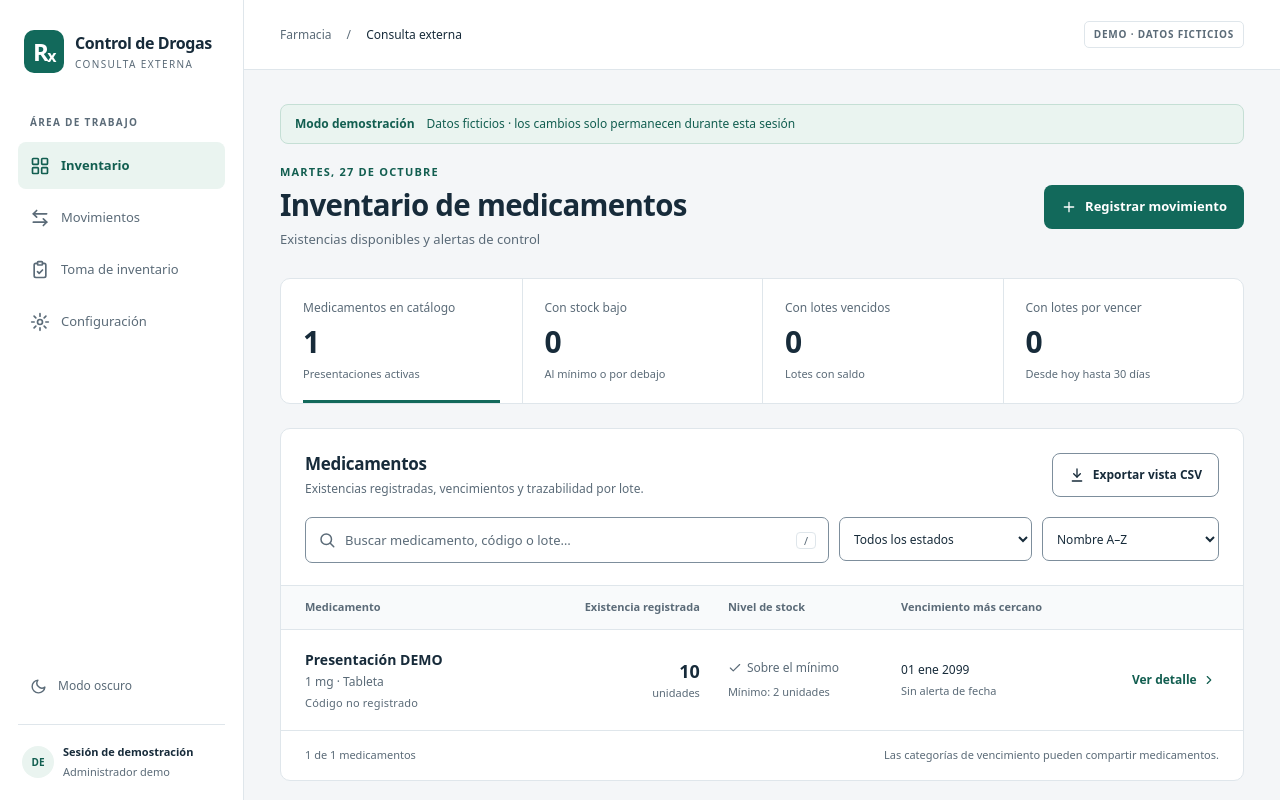
Test: recuperación de un movimiento en la aplicación › asocia existencias insuficientes a cantidad, conserva el formulario y permite corregirlo
The width and height of the screenshot is (1280, 800).
Click the button "Registrar movimiento".
click(1144, 207)  # box top-left (1044, 185), bottom-right (1244, 229)
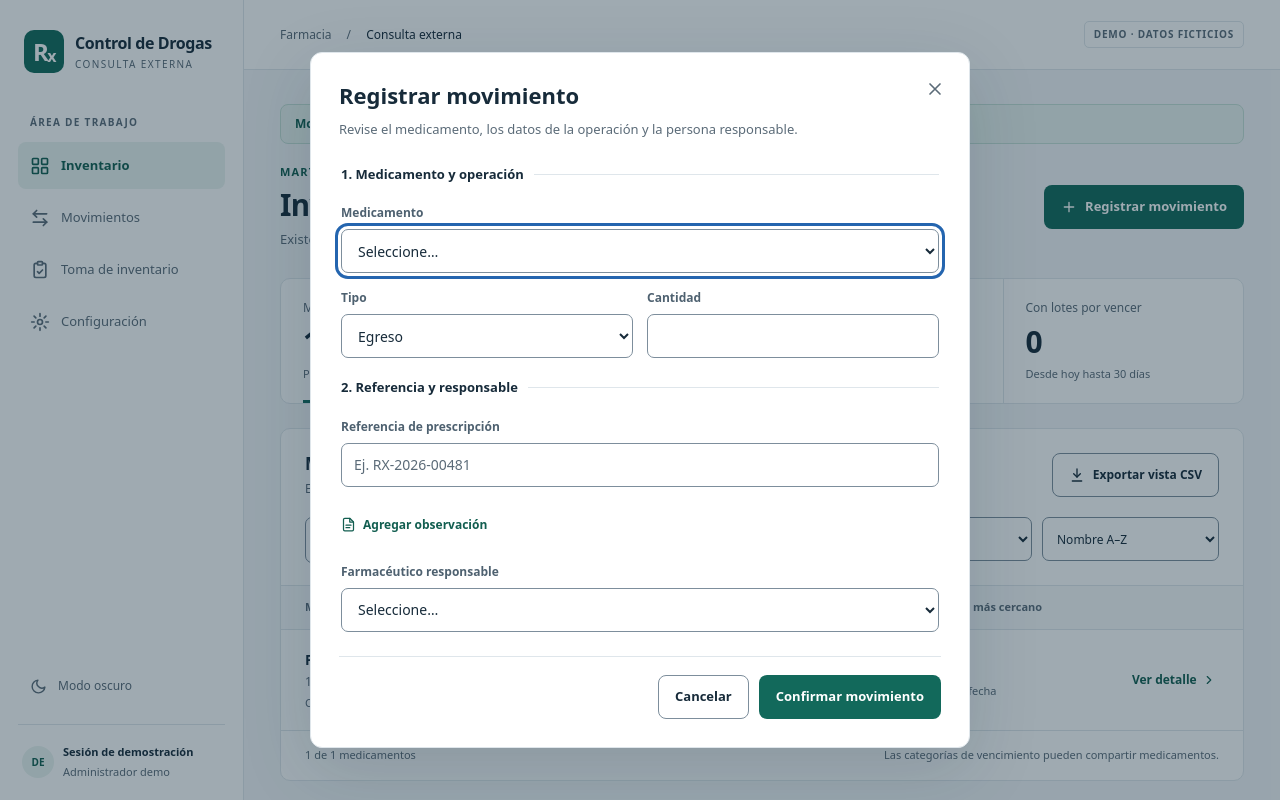
Select "Presentación DEMO 1 mg — 10 unidades" in the dropdown labelled "Medicamento" at (640, 251), box top-left (341, 229), bottom-right (939, 273)
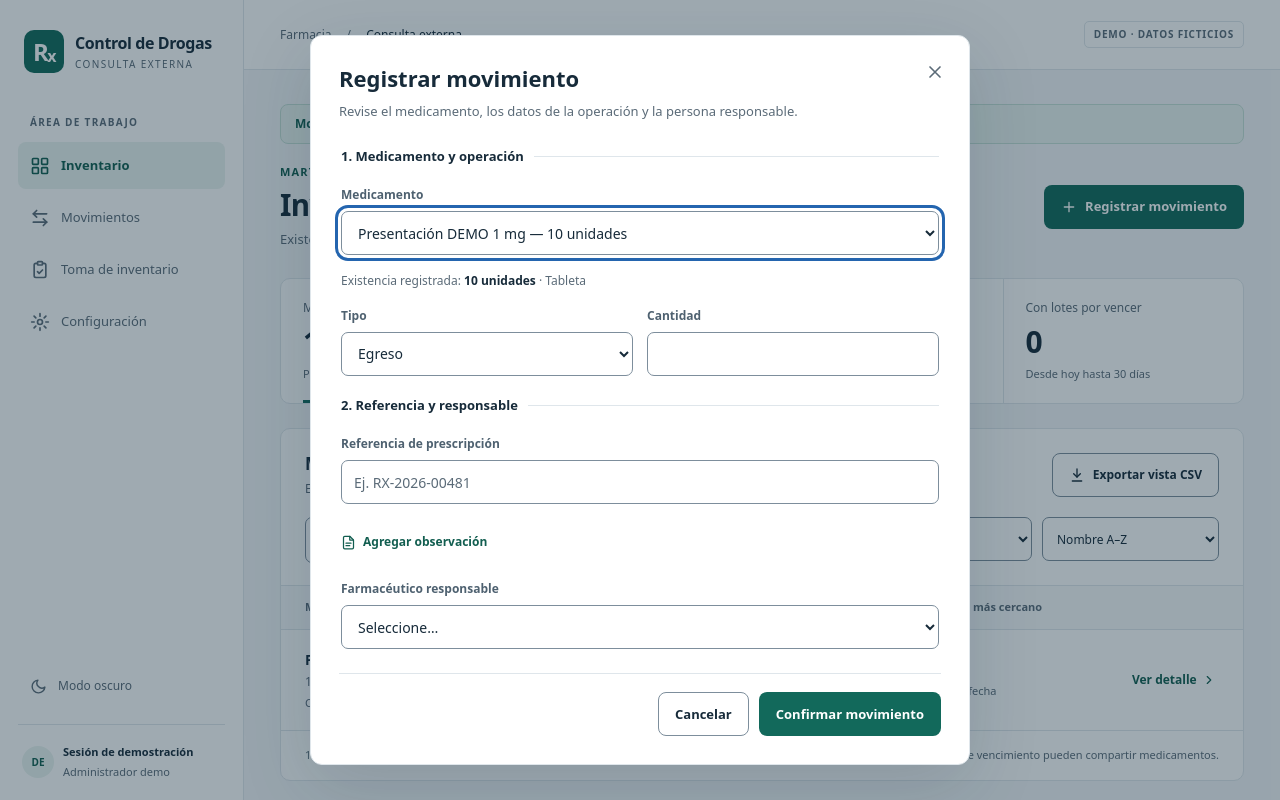
Type "999" into the number field labelled "Cantidad".
click(793, 354); type("999")  # box top-left (647, 332), bottom-right (939, 376)
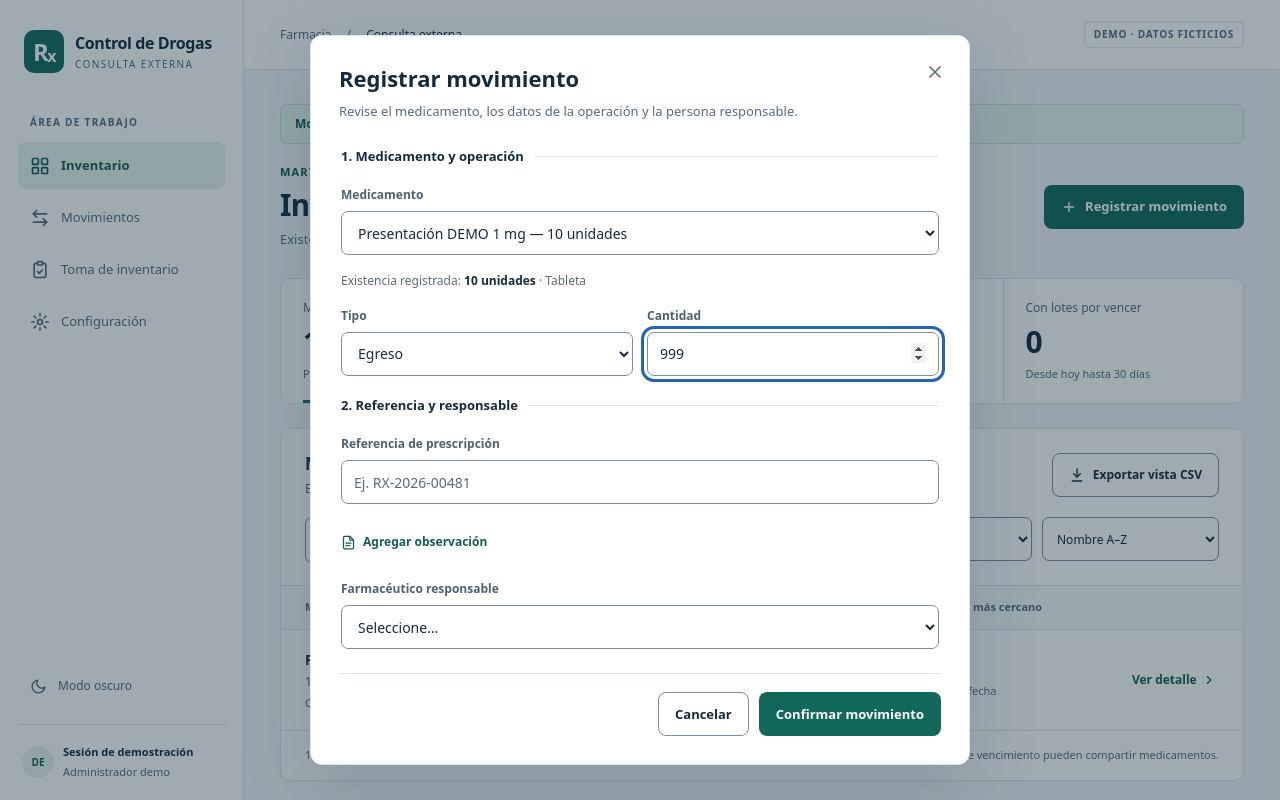
Select "Responsable DEMO — CF-DEMO" in the dropdown labelled "Farmacéutico responsable" at (640, 628), box top-left (341, 606), bottom-right (939, 650)
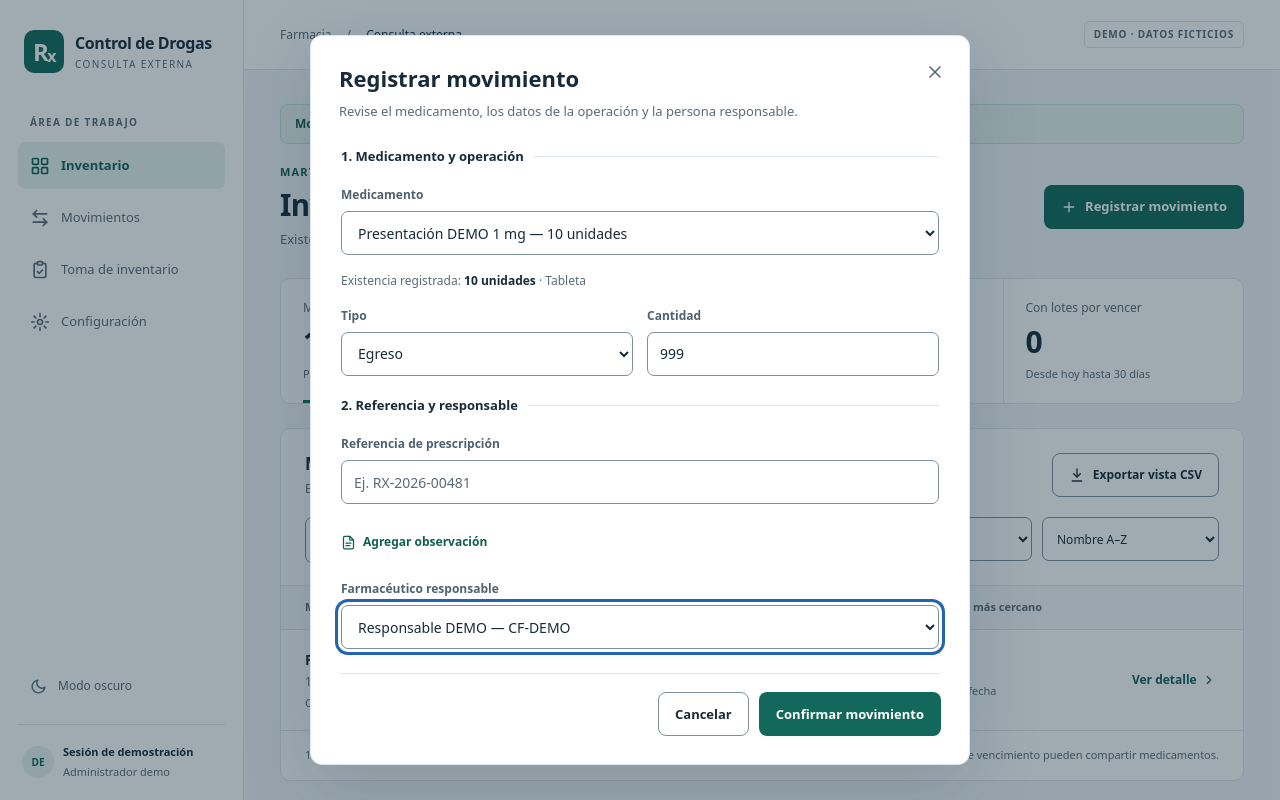
Click the button "Confirmar movimiento".
click(850, 714)  # box top-left (759, 692), bottom-right (941, 736)
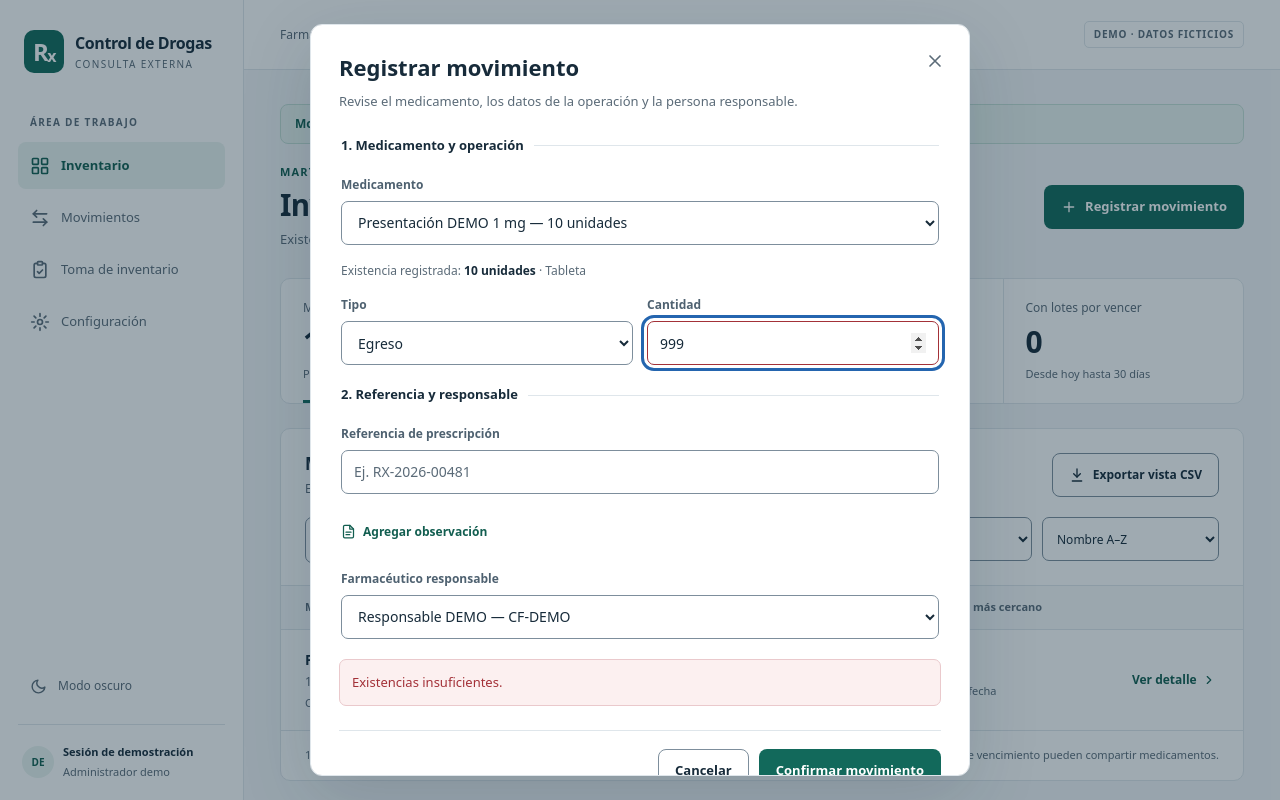
Expected: the message shows "Existencias insuficientes", top-left (352, 673), bottom-right (502, 691)
Replace the text in the number field labelled "Cantidad" with "1" at (793, 343), box top-left (647, 321), bottom-right (939, 365)
Click the button "Confirmar movimiento".
click(850, 771)  # box top-left (759, 749), bottom-right (941, 793)
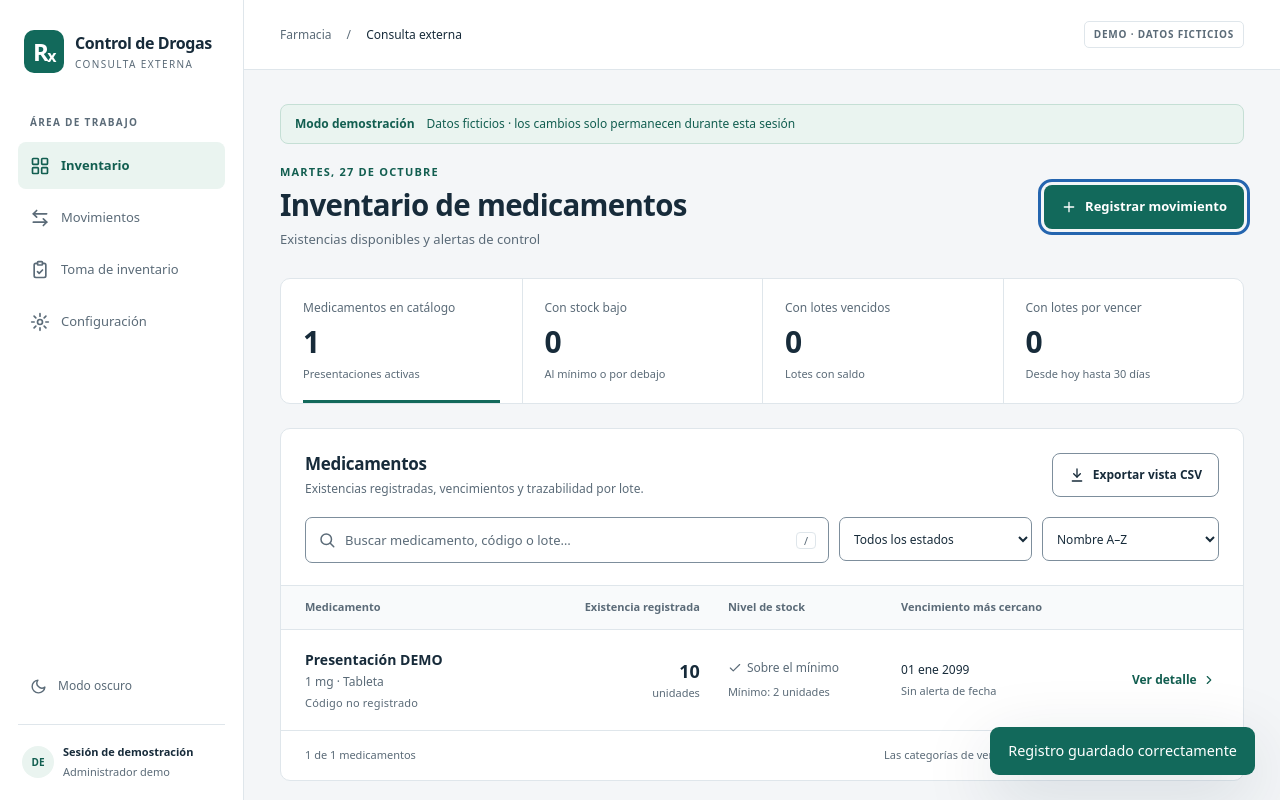
Expected: the dialog is gone
